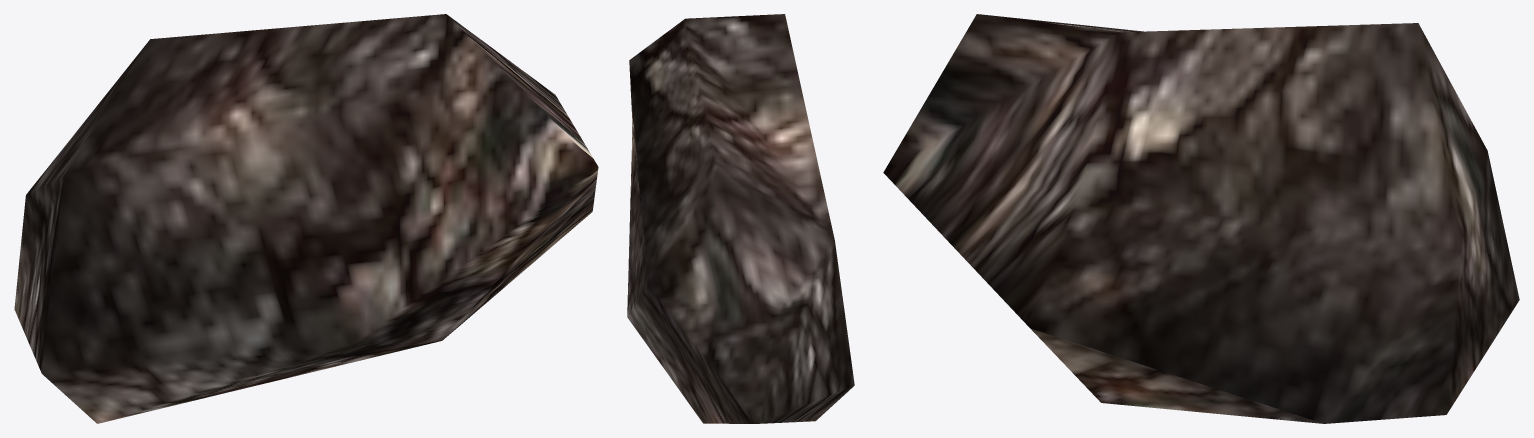
The model's file is volcano_stone.glb.
3 views of the same model, side by side, from view 1: azimuth 30°, elevation 25°; view 2: azimuth 150°, elevation 25°; view 3: azimuth 270°, elevation 25° (orthographic). The views are drawn at different scales.
Parts seen in each view (by area): view 1: model_volcano_stone; view 2: model_volcano_stone; view 3: model_volcano_stone.
Boxes of the visible parts, x1=… form: model_volcano_stone: x1=14, y1=14, x2=598, y2=423; model_volcano_stone: x1=627, y1=14, x2=854, y2=423; model_volcano_stone: x1=883, y1=14, x2=1519, y2=423.
Bounding box in the file's own units: 0.5139 × 0.475 × 0.5626.
Materials: 1 (1 with a texture image).
